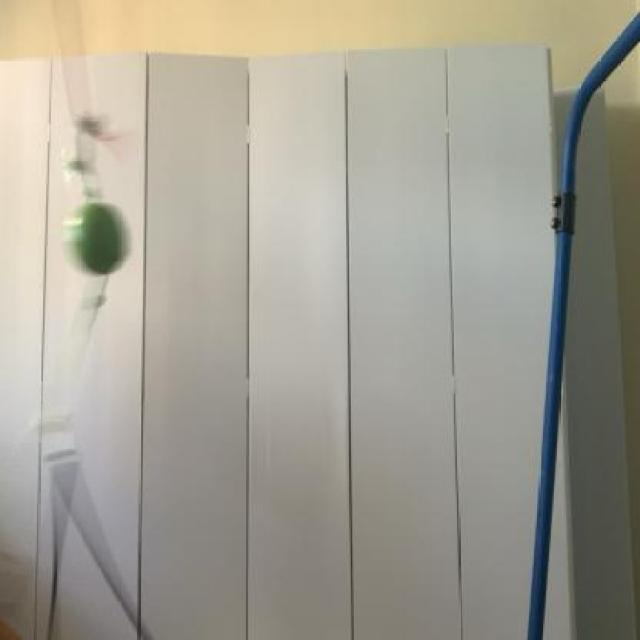baseball: (63, 206, 146, 274)
